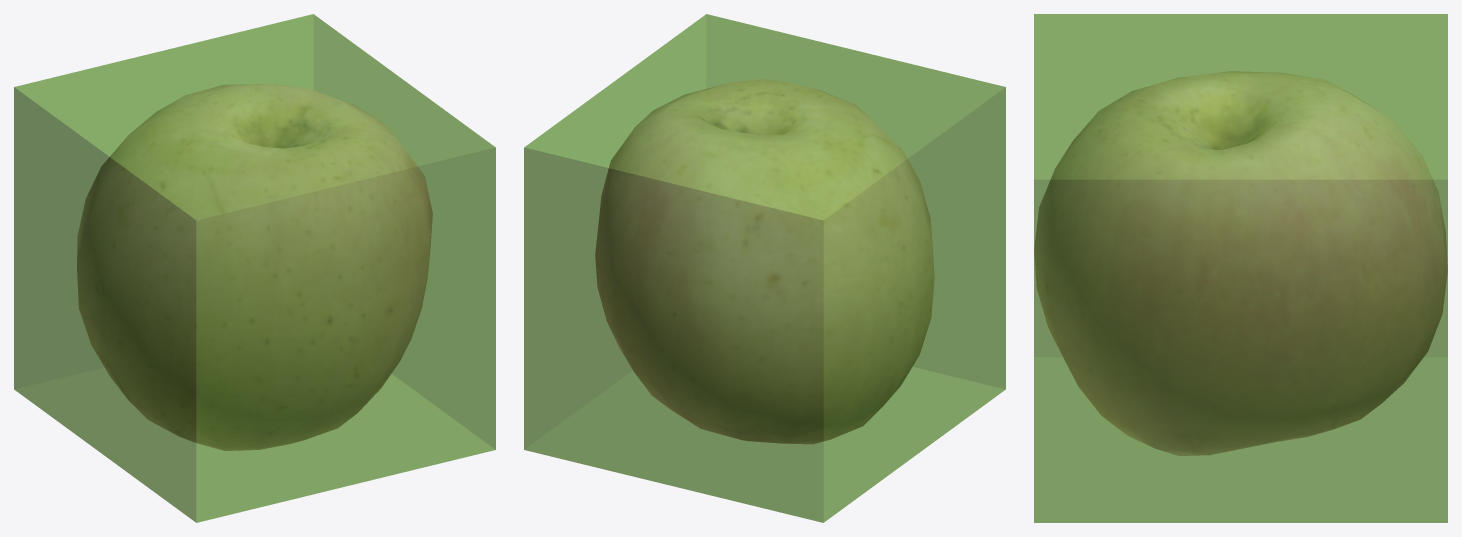
File: pg_AppleRed_05.fbx
3 renders of one model, left to right at view 1: azimuth 30°, elevation 25°; view 2: azimuth 150°, elevation 25°; view 3: azimuth 270°, elevation 25°, orthographic. The views are drawn at different scales.
Parts seen in each view (by area): view 1: pg_AppleRed_05_col, pg_AppleRed_05_LOD0; view 2: pg_AppleRed_05_col, pg_AppleRed_05_LOD0; view 3: pg_AppleRed_05_col, pg_AppleRed_05_LOD0.
Part boxes in pixels (x1,y1,x2,y2): pg_AppleRed_05_col: (14,14,495,522); pg_AppleRed_05_LOD0: (77,83,432,450); pg_AppleRed_05_col: (524,14,1005,522); pg_AppleRed_05_LOD0: (595,79,934,444); pg_AppleRed_05_col: (1034,14,1447,522); pg_AppleRed_05_LOD0: (1034,71,1447,455).
Size of what is drawn, in the model's own units: 8.23 by 7.95 by 8.69.
